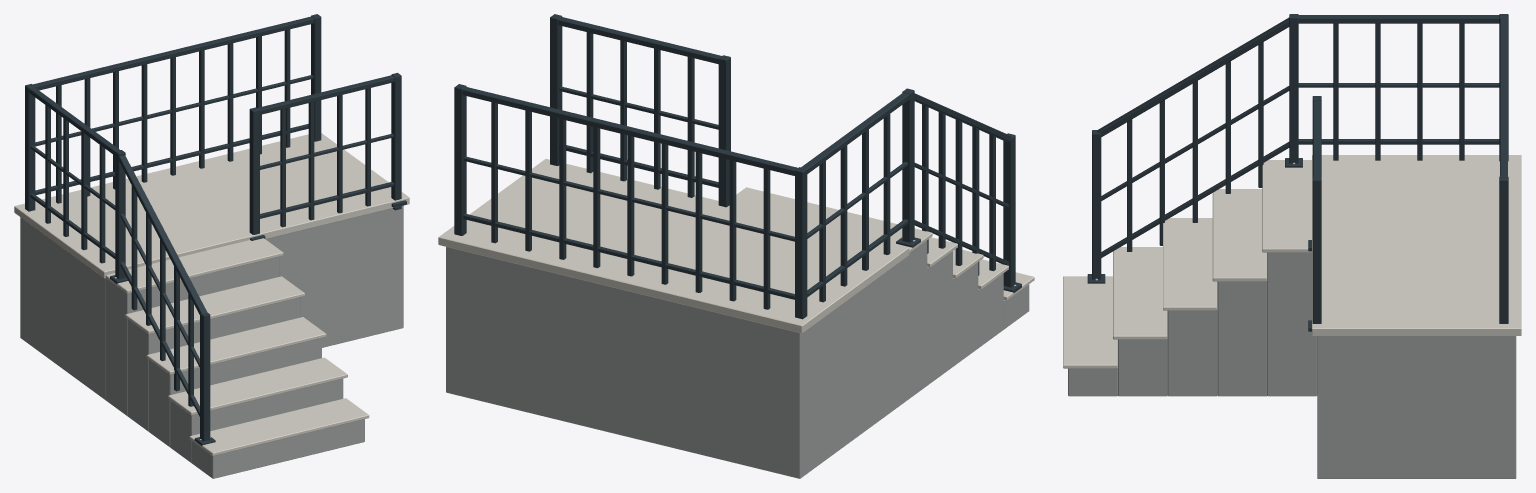
Rendered from b12_side_entry_stair_landing.glb.
The picture shows the model from 3 angles, left to right: view 1: azimuth 30°, elevation 25°; view 2: azimuth 150°, elevation 25°; view 3: azimuth 270°, elevation 25°; orthographic projection. The views are drawn at different scales.
Parts seen in each view (by area): view 1: b12_side_entry_stair_landing; view 2: b12_side_entry_stair_landing; view 3: b12_side_entry_stair_landing.
Boxes of the visible parts, x1,y1,x2,y2 form: b12_side_entry_stair_landing: (14,14,409,478); b12_side_entry_stair_landing: (438,14,1034,478); b12_side_entry_stair_landing: (1063,14,1521,478).
Size of the model in its own units: 2.31 by 1.84 by 2.58.
